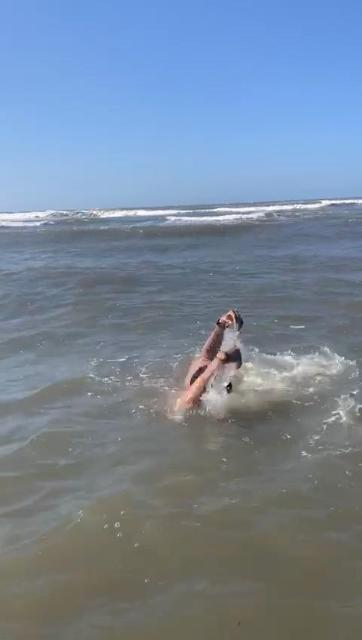drowning: (176, 256, 279, 450)
